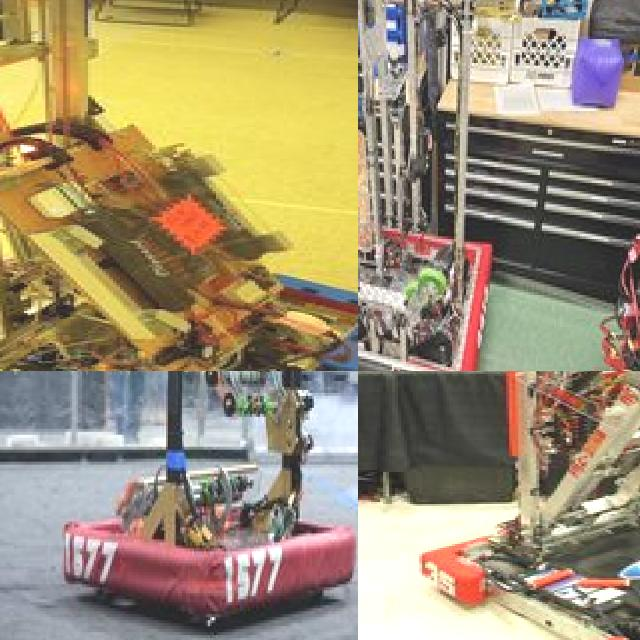FRC-Robots: (0, 0, 358, 371), (60, 371, 358, 623), (400, 371, 640, 640), (358, 0, 523, 371)
